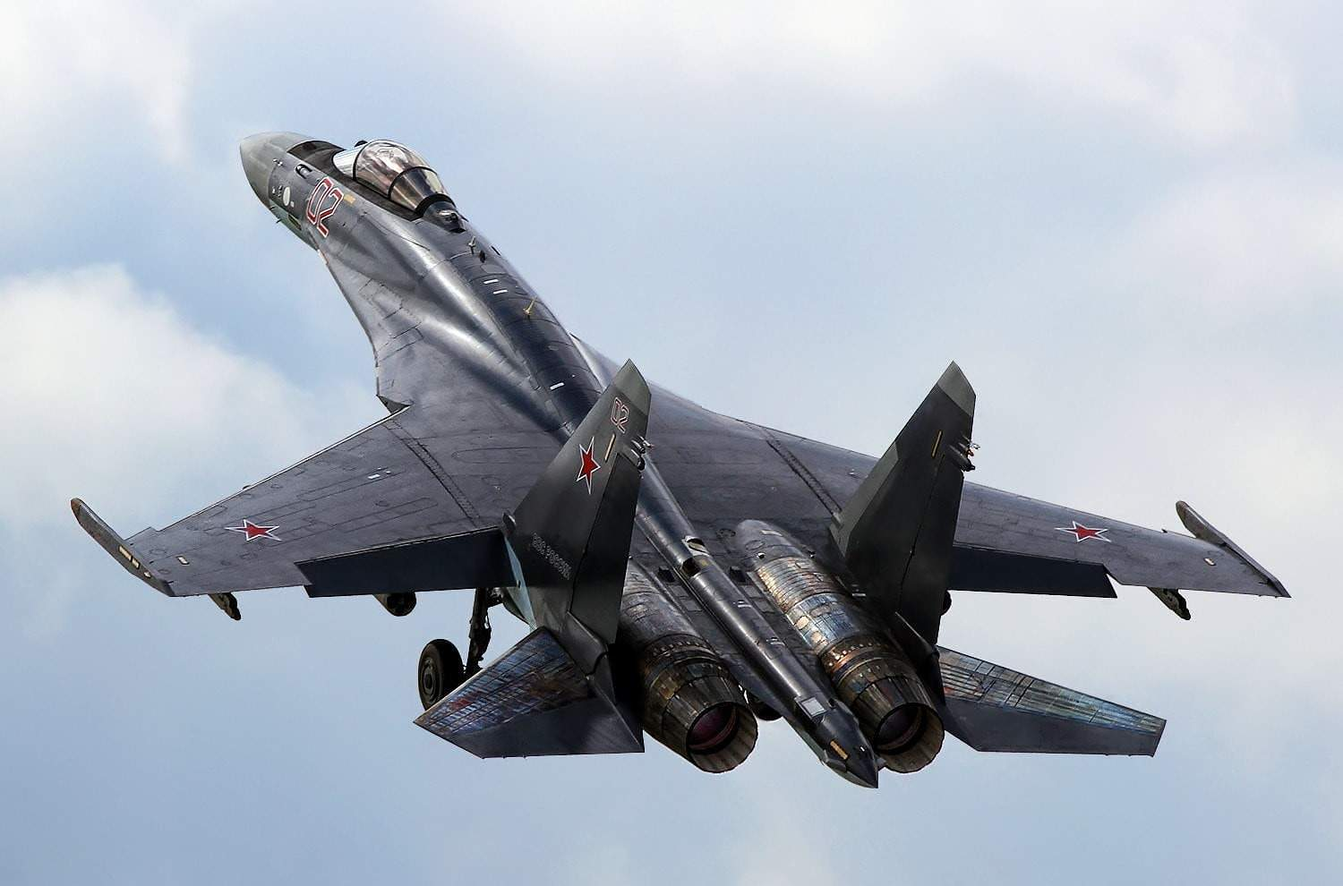Su35: (56, 115, 1298, 802)
